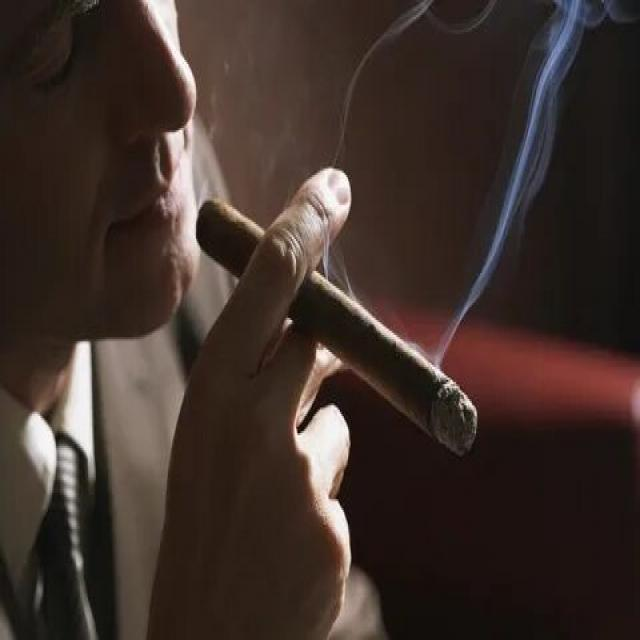cigarette: (195, 192, 480, 457)
